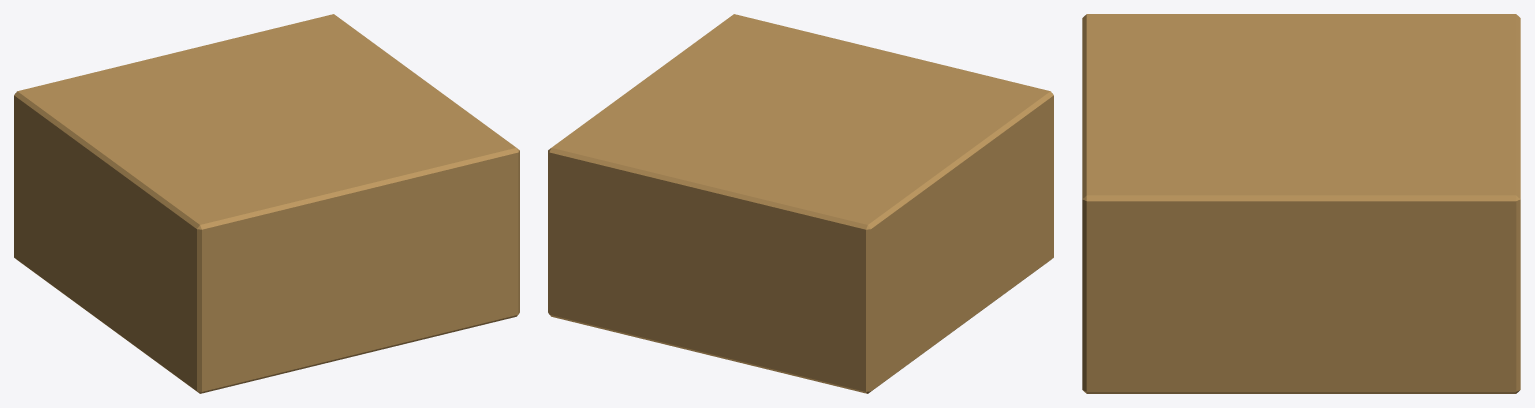
The model's file is HJD_FP_floating_platform00.fbx.
The picture shows the model from 3 angles, left to right: view 1: azimuth 30°, elevation 25°; view 2: azimuth 150°, elevation 25°; view 3: azimuth 270°, elevation 25°; orthographic projection. The views are drawn at different scales.
Parts seen in each view (by area): view 1: transform_unity_scale17; view 2: transform_unity_scale17; view 3: transform_unity_scale17.
Boxes of the visible parts, x1,y1,x2,y2 form: transform_unity_scale17: [14, 14, 519, 393]; transform_unity_scale17: [548, 14, 1053, 393]; transform_unity_scale17: [1082, 14, 1520, 393].
Bounding box in the file's own units: 100 × 50 × 100.
